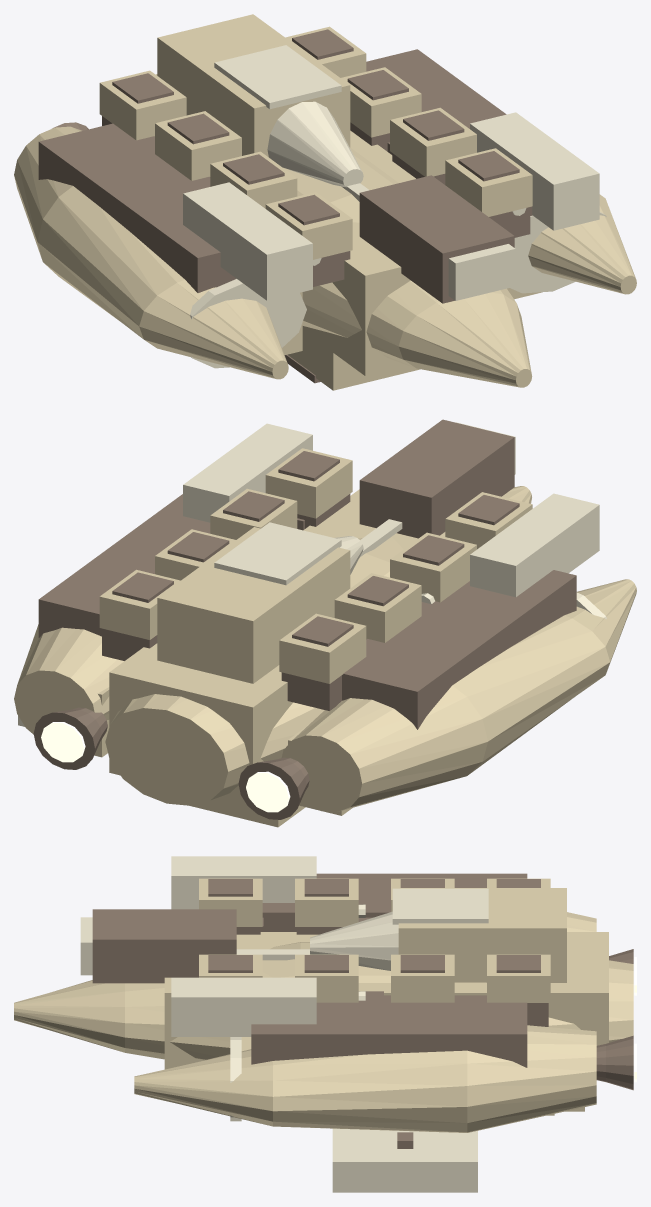
3 views of the same model, one above another, from view 1: azimuth 30°, elevation 25°; view 2: azimuth 150°, elevation 25°; view 3: azimuth 270°, elevation 25° (orthographic). The views are drawn at different scales.
Bounding box in the file's own units: 15.82 × 6.92 × 20.76.
